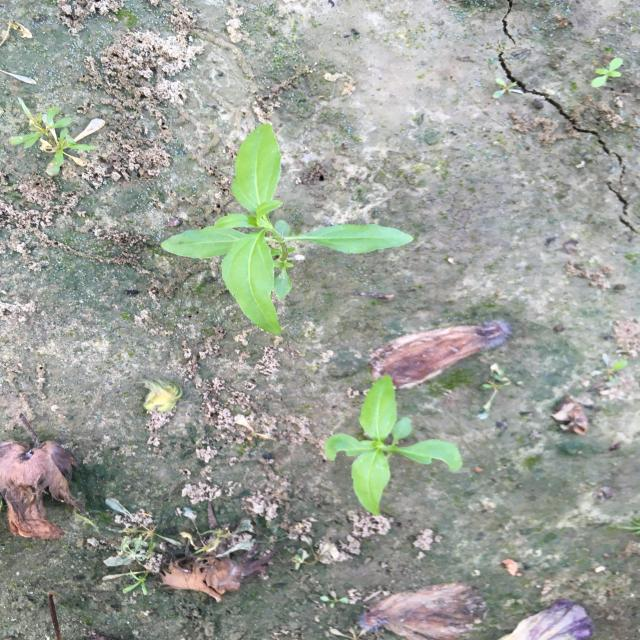Carpetweed: (7, 96, 108, 176)
Eclipta: (158, 122, 416, 338), (323, 374, 465, 518)
